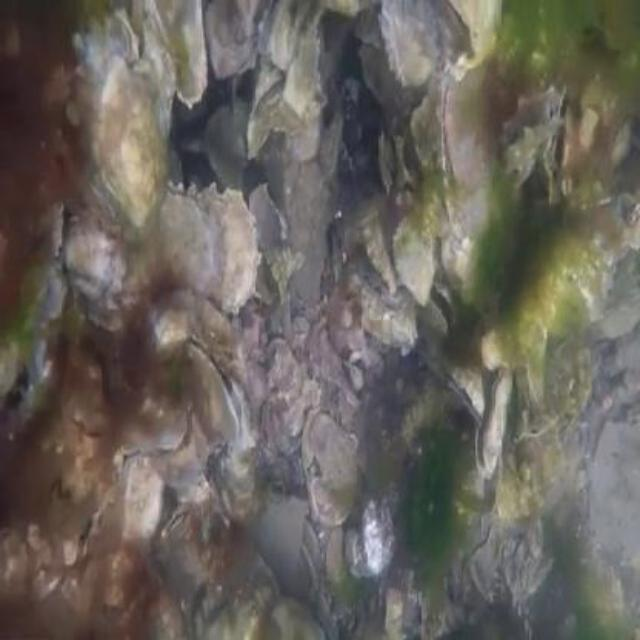Oyster-Closed: (92, 57, 172, 230), (439, 63, 505, 230), (340, 228, 418, 345), (194, 541, 280, 638), (200, 185, 259, 315), (161, 182, 224, 297), (304, 412, 359, 524), (117, 385, 192, 454), (379, 0, 438, 86), (122, 456, 167, 544), (395, 220, 436, 302), (362, 206, 399, 295), (116, 4, 139, 64)
Oyster-Open: (190, 336, 249, 445), (501, 85, 565, 181), (475, 369, 513, 481), (546, 81, 574, 202), (445, 364, 486, 427), (419, 282, 457, 345), (163, 503, 192, 540)
